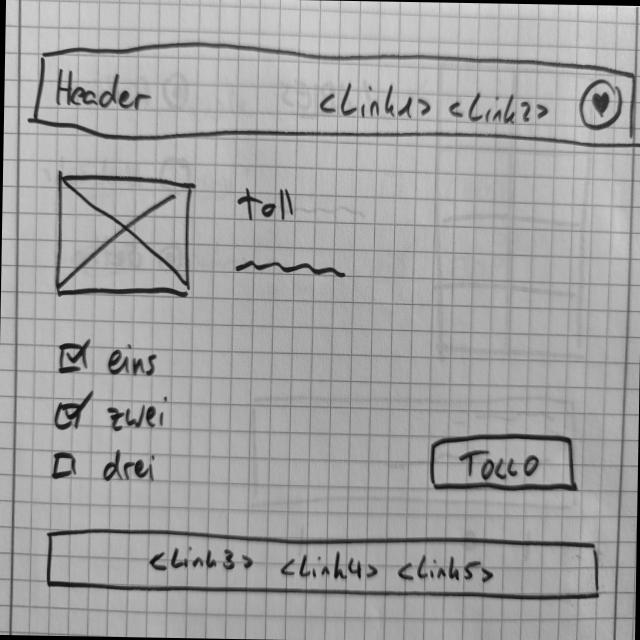button: (428, 432, 579, 494)
checkbox: (51, 385, 171, 436), (49, 445, 160, 488), (55, 335, 162, 378)
container: (30, 37, 640, 154), (44, 524, 606, 608)
image: (54, 170, 196, 302)
label: (51, 63, 156, 112), (234, 184, 302, 226)
link: (318, 76, 433, 124), (446, 87, 550, 127), (278, 546, 380, 584), (148, 540, 255, 574), (394, 550, 494, 584)
text: (232, 255, 350, 282)
